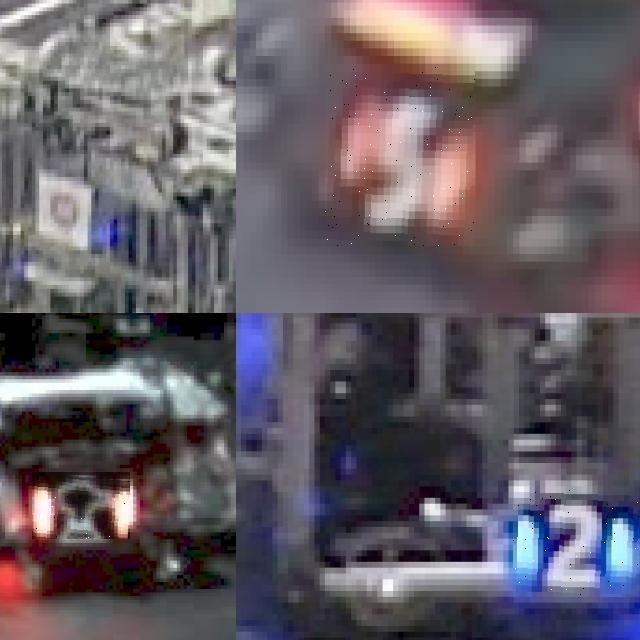B2: (514, 486, 640, 597)
R5: (325, 64, 475, 246)
Rs: (32, 472, 130, 539)
